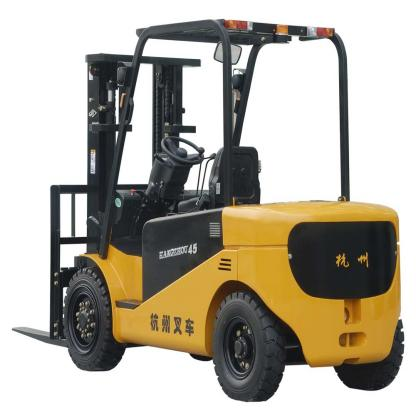forklift: (10, 16, 406, 404)
